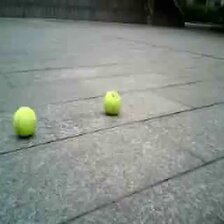tennis: (13, 107, 36, 137), (103, 91, 121, 116)
